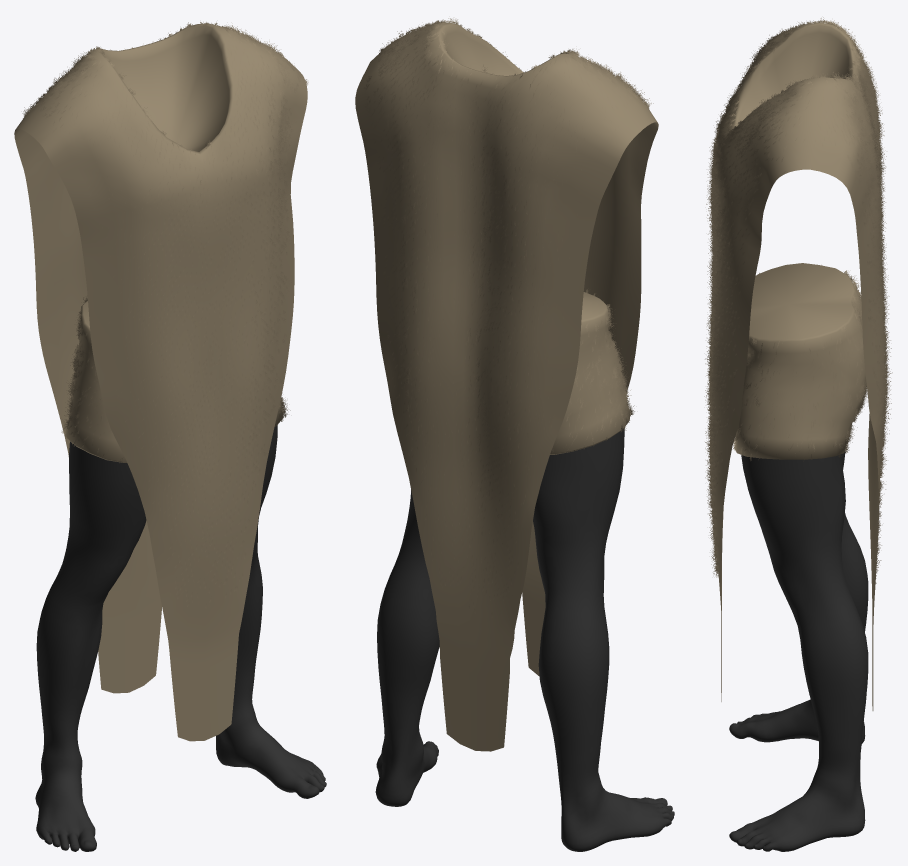
The model's file is Cloth Fuzz with Flat Planes (14.5k total fuzz tris).fbx.
The picture shows the model from 3 angles, left to right: view 1: azimuth 30°, elevation 25°; view 2: azimuth 150°, elevation 25°; view 3: azimuth 270°, elevation 25°; orthographic projection. The views are drawn at different scales.
Visible parts, largest first — view 1: Poncho 1, Legs 1; view 2: Poncho 1, Legs 1; view 3: Legs 1, Poncho 1.
Part boxes in pixels (x1,y1,x2,y2): Poncho 1: (14, 22, 308, 741); Legs 1: (35, 297, 326, 851); Poncho 1: (355, 18, 658, 751); Legs 1: (375, 289, 674, 851); Legs 1: (729, 263, 868, 851); Poncho 1: (704, 17, 892, 710).
Size of the model in its own units: 57.23 by 151 by 34.79.
